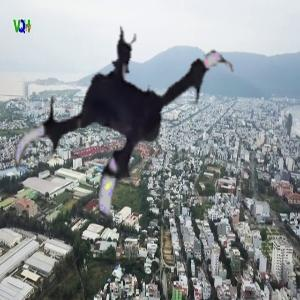drone: (5, 10, 248, 253)
